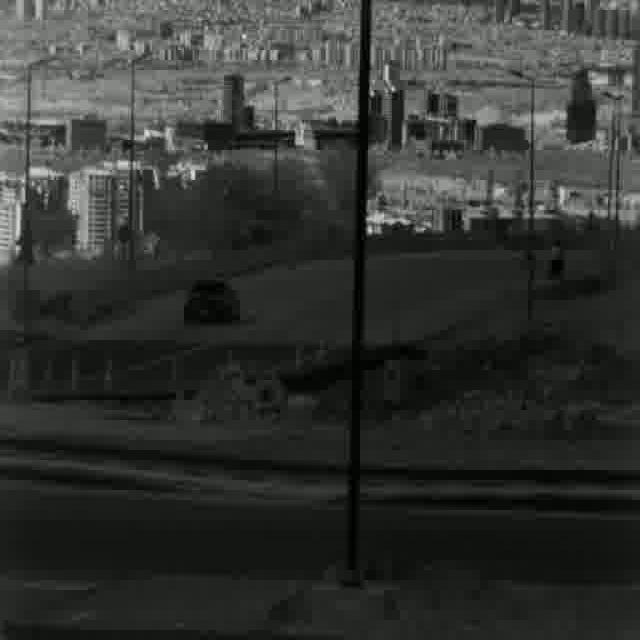Car: (178, 275, 244, 326)
Motorcycle: (546, 237, 568, 282)
